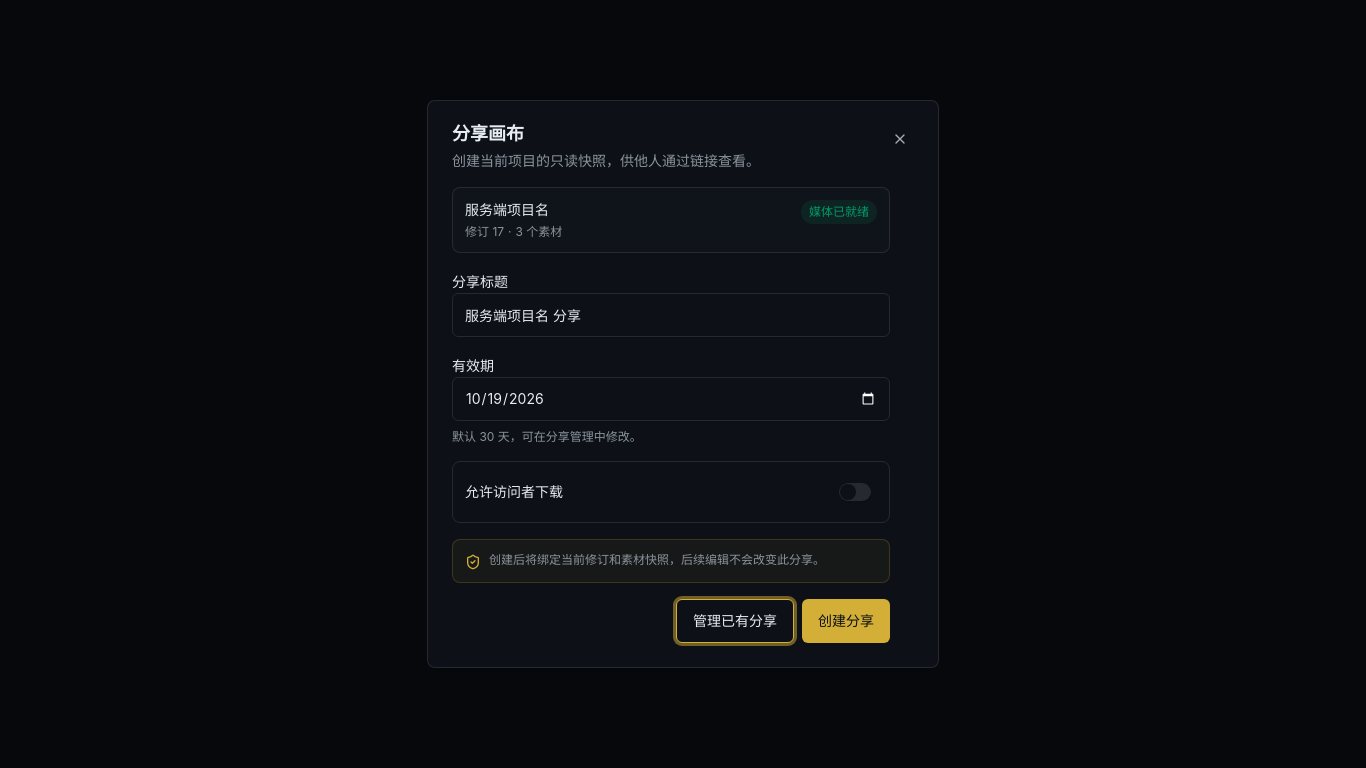
Test case: canvas share owner UI › maps CANVAS_SHARE_MEDIA_NOT_READY to a safe Chinese next action
expect the text "媒体已就绪" is shown: met, box left=801, top=200, right=877, bottom=224
Click the button "创建分享". click: (846, 621)
box: left=802, top=599, right=890, bottom=643
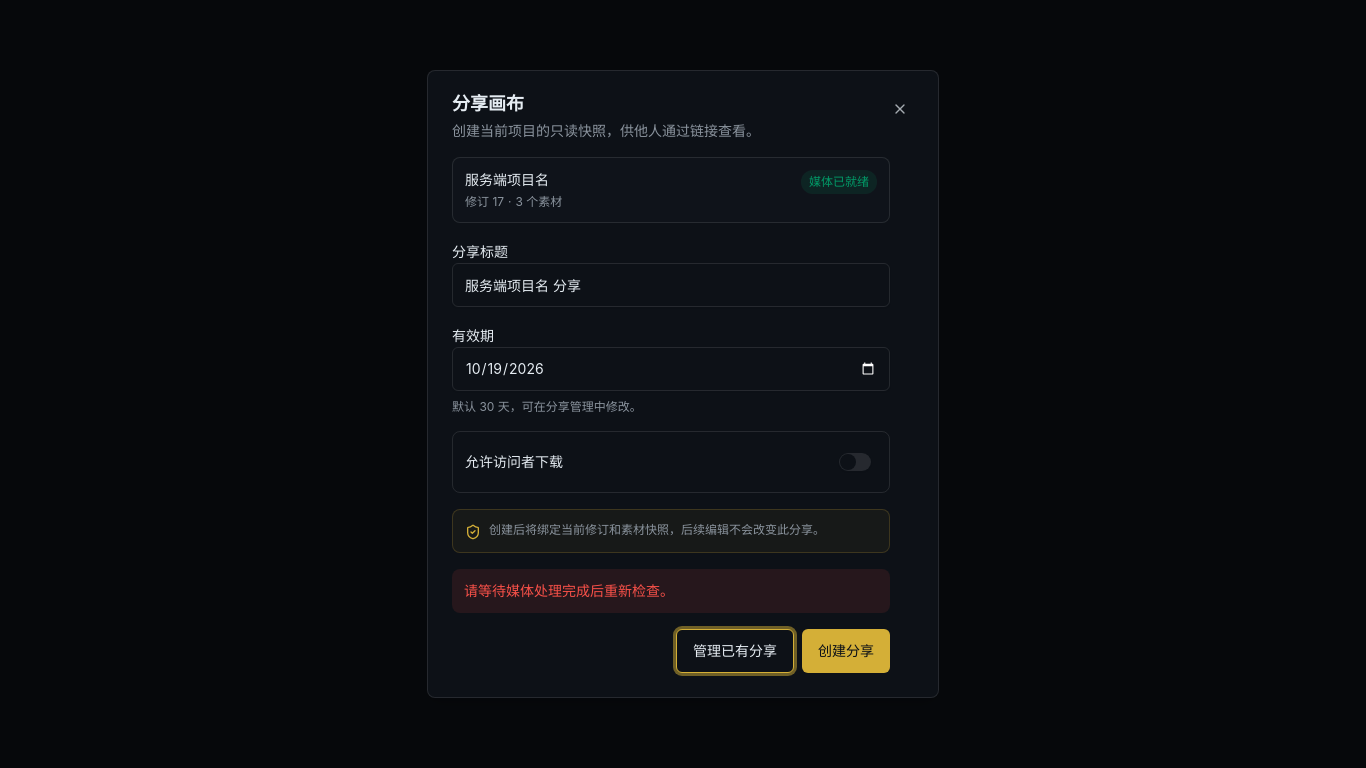
expect the message shows "请等待媒体处理完成后重新检查": met, box left=464, top=582, right=674, bottom=599
